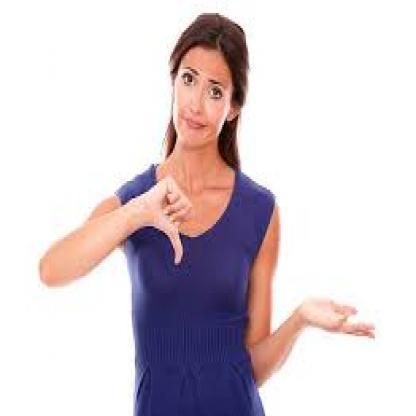thumb_down: (142, 172, 200, 268)
